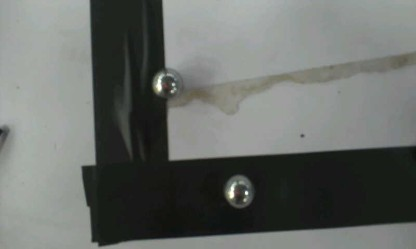ironball: (223, 174, 254, 209), (150, 67, 182, 99)
